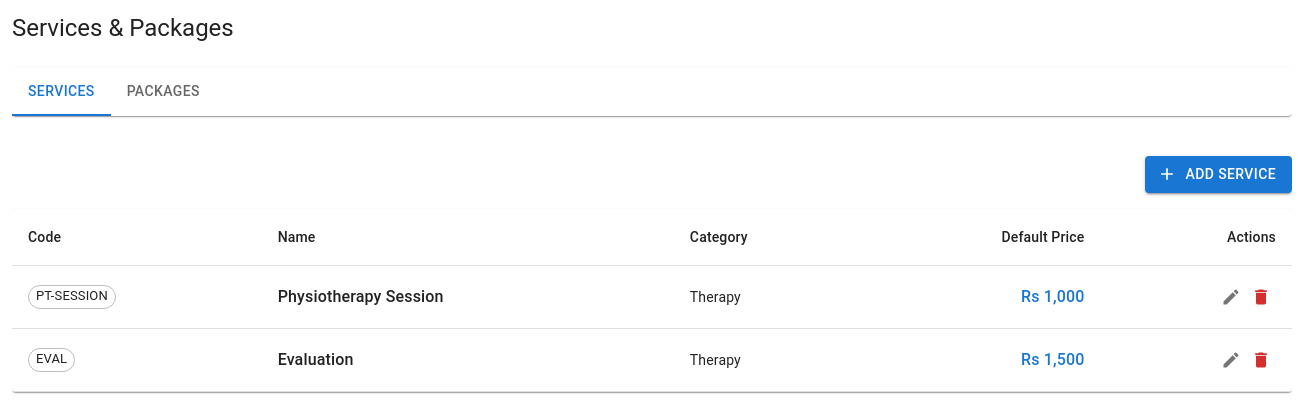
Test: Package Workflow Integration Tests › Services Tab › should switch between Services and Packages tabs
Expected: the text "Physiotherapy Session" is shown, [278,286,444,306]
# Switch to Packages
Click the tab "Packages" at (163, 92), box [111,68,216,116]
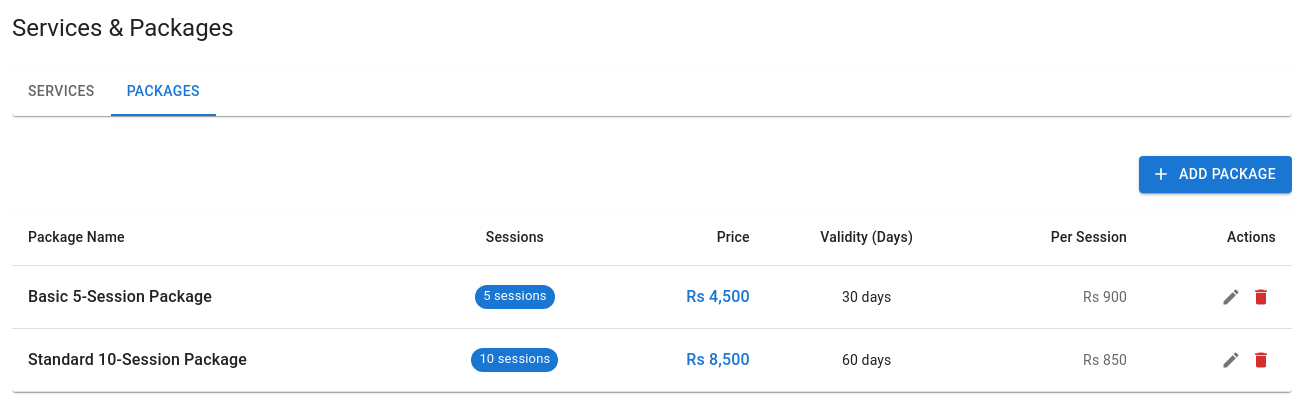
Result: the text "Basic 5-Session Package" is shown at [28,286,212,306]
# Switch back to Services
Click the tab "Services" at (61, 92), box [12,68,111,116]
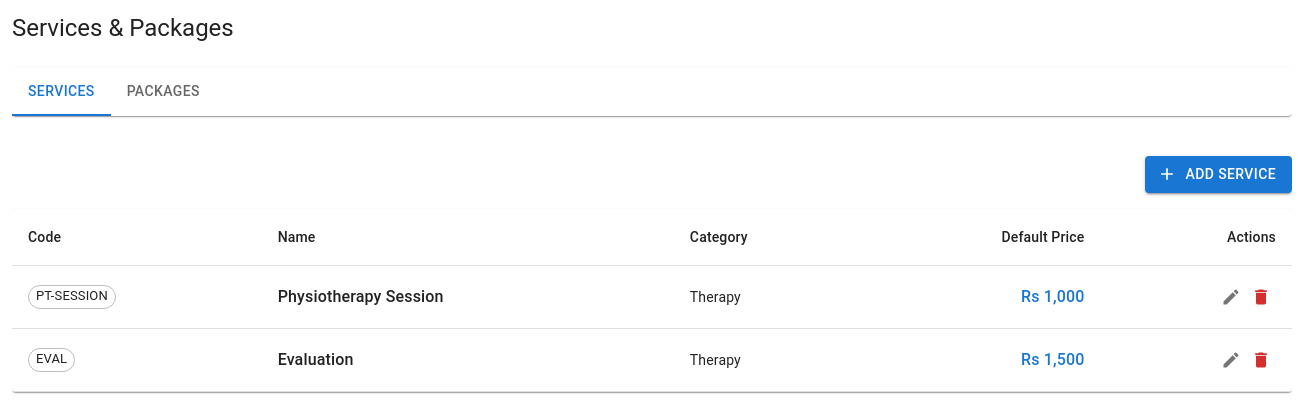
Result: the text "Physiotherapy Session" is shown at [278,286,444,306]
